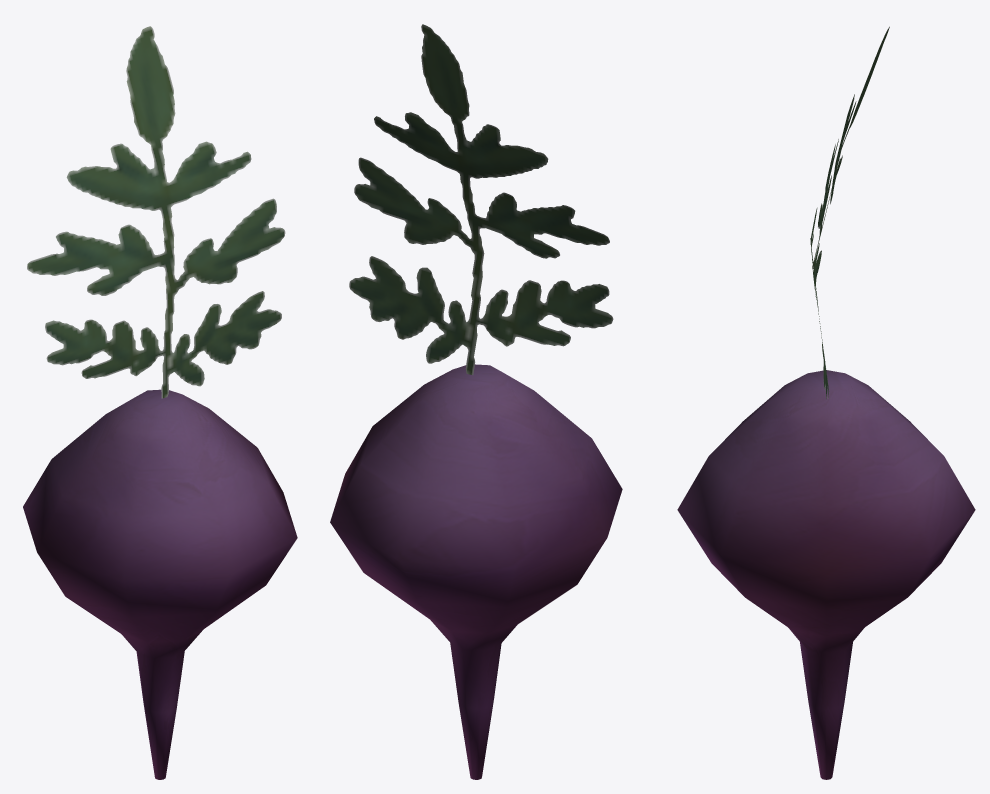
Rendered from SM_Beterraba.fbx.
3 renders of one model, left to right at view 1: azimuth 30°, elevation 25°; view 2: azimuth 150°, elevation 25°; view 3: azimuth 270°, elevation 25°, orthographic. The views are drawn at different scales.
Visible parts, largest first — view 1: Beterraba; view 2: Beterraba; view 3: Beterraba.
Boxes of the visible parts, box(x1,y1,x2,y2) form: Beterraba: box(23, 26, 297, 779); Beterraba: box(330, 24, 622, 779); Beterraba: box(677, 26, 975, 779).
Bounding box in the file's own units: 22.43 × 54.25 × 19.05.
